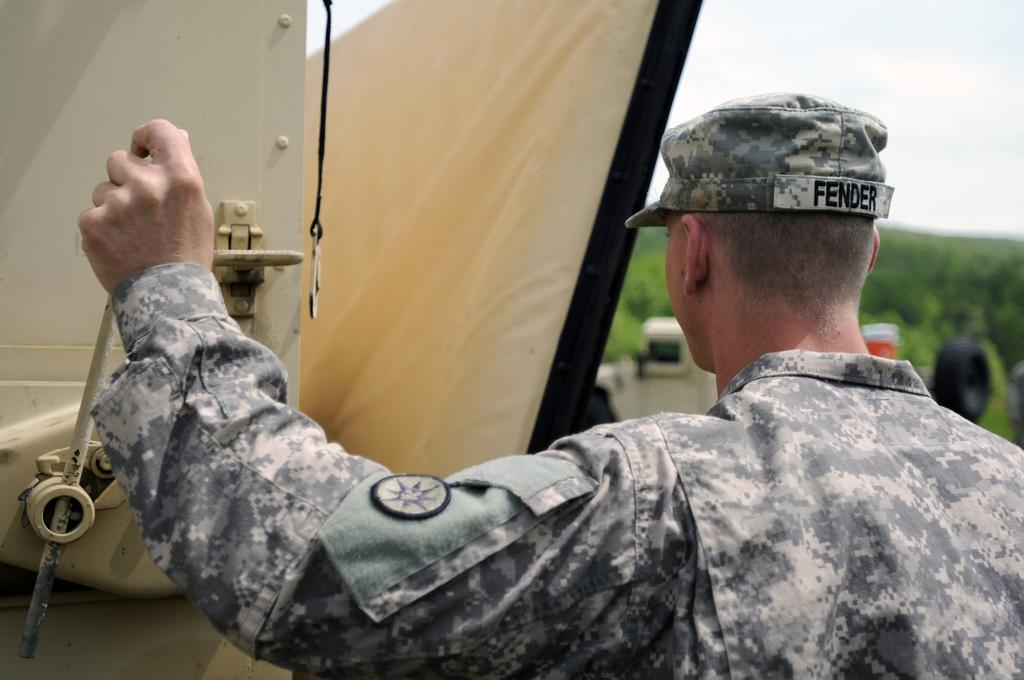Hat: (623, 89, 891, 228)
